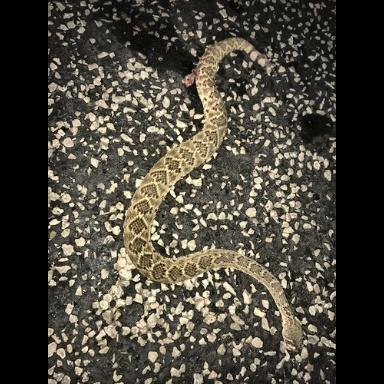snake: (123, 38, 316, 366)
